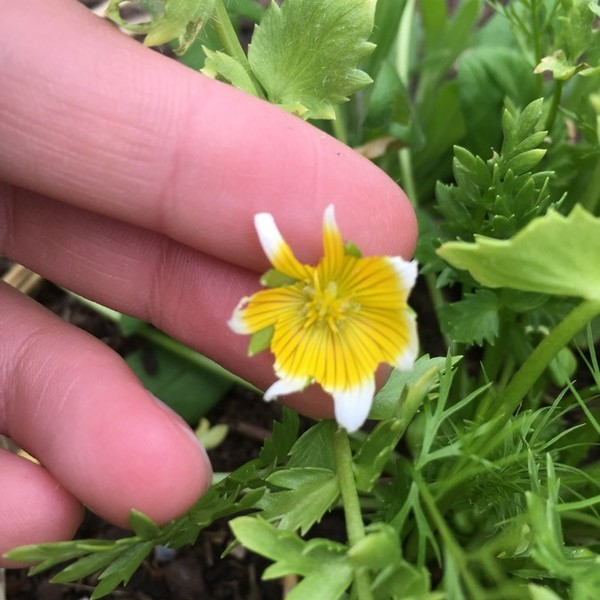obstacle: (241, 206, 453, 428)
